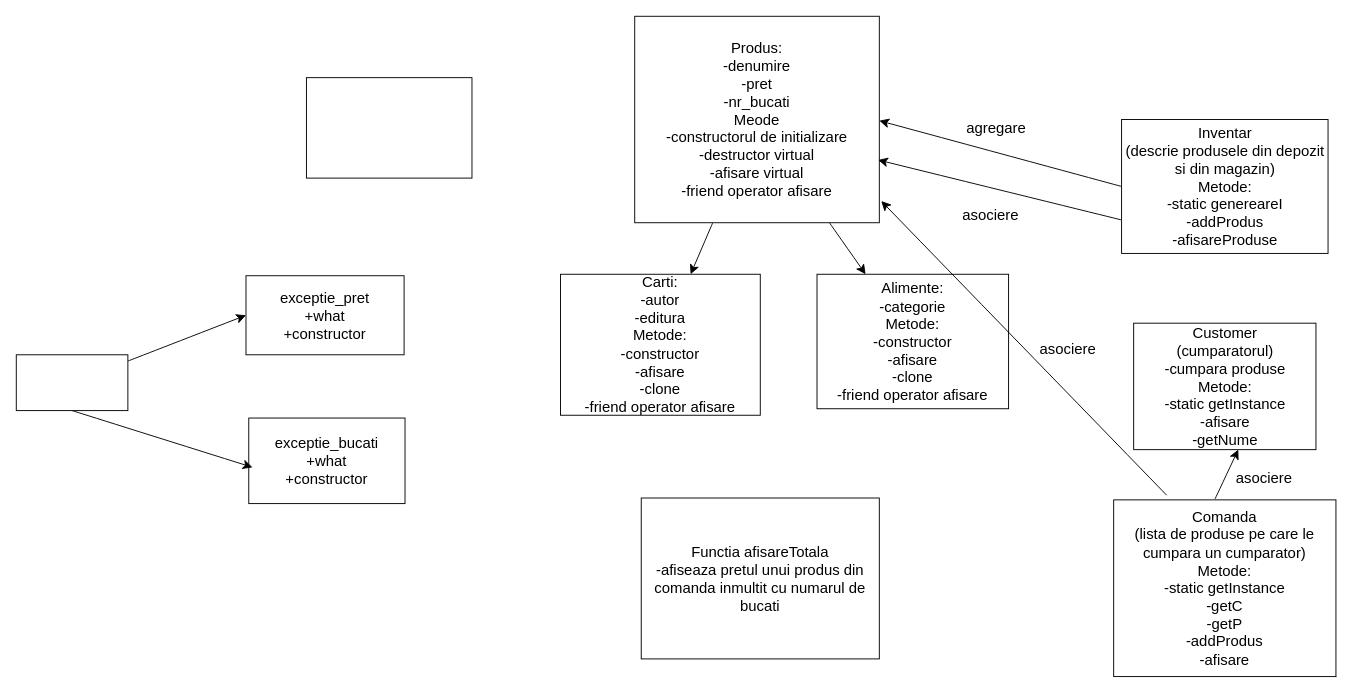
Some shapes in this 1352 by 693 pixel diagram are drawn without their labels. Each missing label, with the box of its shape:
exception: (15, 354, 128, 411)
Id +static id +static generareId: (306, 77, 472, 178)
